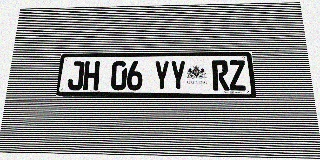0: (110, 61, 127, 90)
6: (126, 61, 143, 90)
H: (83, 61, 100, 90)
J: (67, 61, 85, 90)
R: (212, 60, 230, 90)
Y: (154, 61, 170, 90), (170, 61, 186, 90)
Z: (228, 60, 247, 91)
